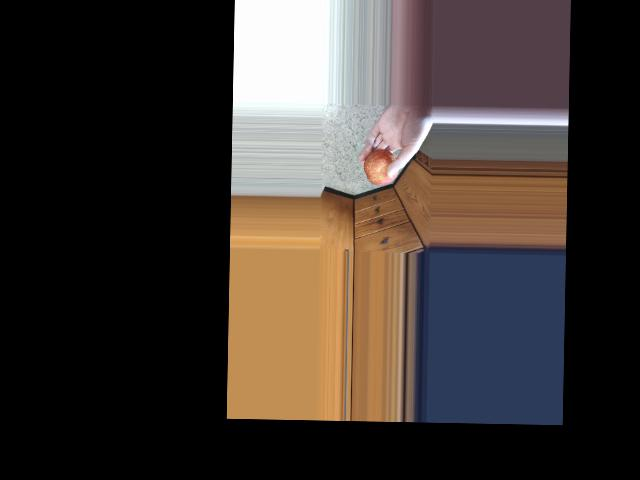apple: (361, 142, 403, 190)
